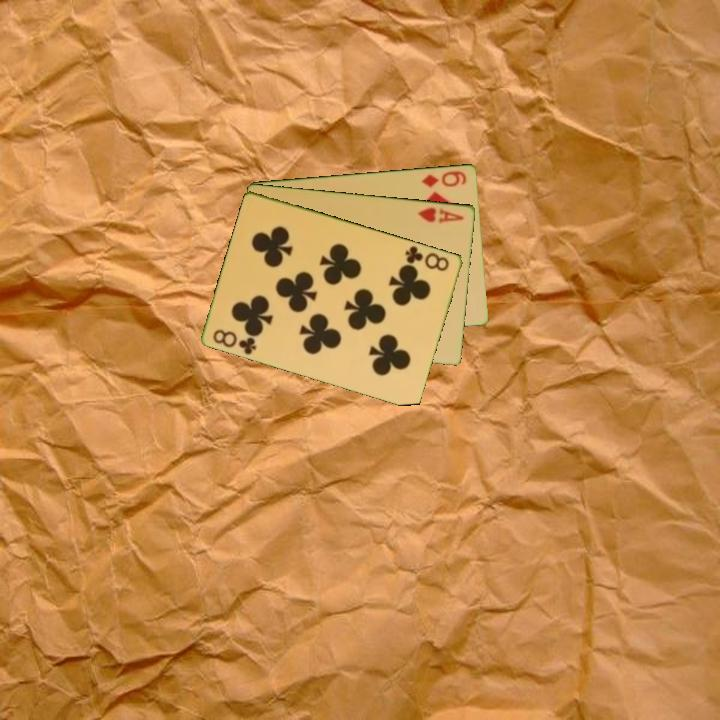6d: (419, 167, 470, 190)
8c: (209, 325, 260, 357), (402, 242, 452, 274)
Ah: (414, 203, 467, 226)
